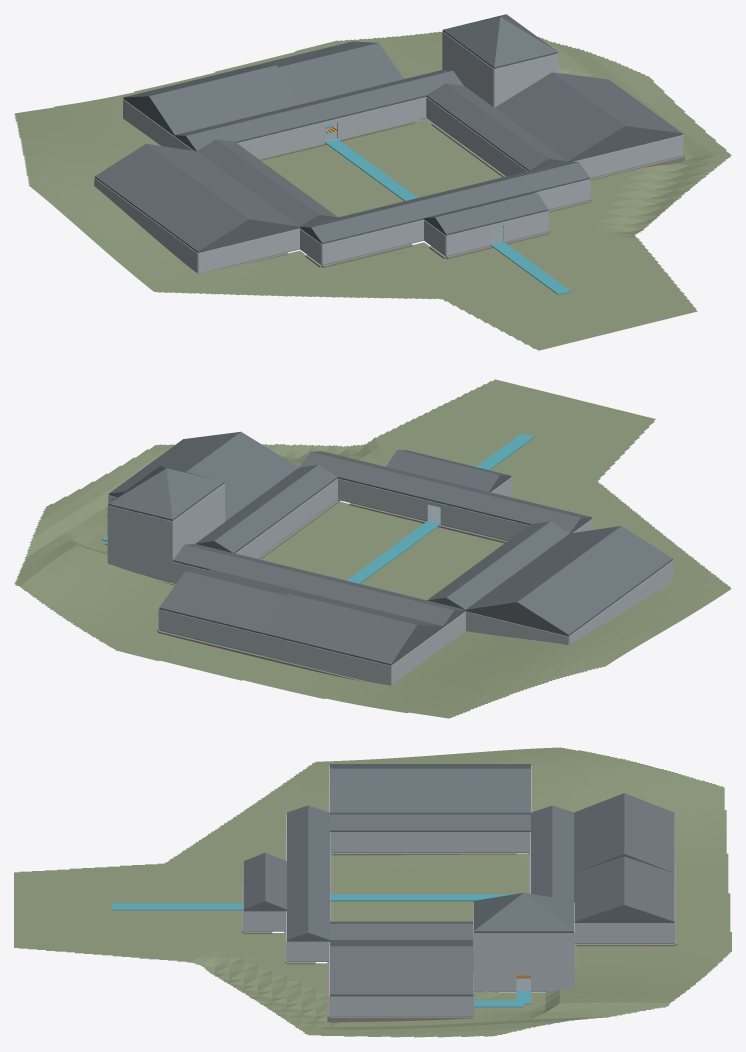
The model's file is enclosed-roofs.glb.
3 renders of one model, top to bottom at view 1: azimuth 30°, elevation 25°; view 2: azimuth 150°, elevation 25°; view 3: azimuth 270°, elevation 25°, orthographic. The views are drawn at different scales.
Visible parts, largest first — view 1: Saved editor circulation terrain WLD-10, dormitory roof west, archive roof south, refectory roof west, south-cloister roof south, north-cloister roof south, vestry roof south, dormitory roof east, east-cloister roof west, west-cloister roof west, refectory roof east, gatehouse roof south (+26 smaller); view 2: Saved editor circulation terrain WLD-10, dormitory roof west, archive roof north, north-cloister roof north, south-cloister roof north, vestry roof north, refectory roof west, dormitory roof east, east-cloister roof west, west-cloister roof west, Wall archive N, Wall tower-base N (+23 smaller); view 3: Saved editor circulation terrain WLD-10, dormitory roof east, refectory roof east, Wall west E, west-cloister roof east, archive roof north, archive roof south, Wall refectory E, south-cloister roof north, south-cloister roof south, vestry roof south, vestry roof north (+20 smaller).
Boxes of the visible parts, box(x1,y1,x2,y2) form: Saved editor circulation terrain WLD-10: box(14, 31, 731, 350); dormitory roof west: box(95, 144, 248, 252); archive roof south: box(149, 65, 301, 136); refectory roof west: box(495, 72, 625, 161); south-cloister roof south: box(311, 162, 589, 244); north-cloister roof south: box(186, 71, 463, 151); vestry roof south: box(278, 43, 403, 103); dormitory roof east: box(146, 143, 299, 227); east-cloister roof west: box(426, 83, 548, 170); west-cloister roof west: box(197, 139, 319, 226); refectory roof east: box(552, 72, 682, 134); gatehouse roof south: box(435, 192, 548, 235); Saved editor circulation terrain WLD-10: box(14, 379, 731, 718); dormitory roof west: box(517, 526, 672, 636); archive roof north: box(262, 593, 417, 665); north-cloister roof north: box(172, 544, 454, 626); south-cloister roof north: box(299, 452, 580, 533); vestry roof north: box(159, 571, 286, 633); refectory roof west: box(186, 432, 298, 520); dormitory roof east: box(466, 526, 620, 610); east-cloister roof west: box(214, 465, 337, 553); west-cloister roof west: box(446, 521, 569, 609); Wall archive N: box(262, 634, 391, 685); Wall tower-base N: box(108, 526, 172, 581); Saved editor circulation terrain WLD-10: box(14, 747, 731, 1037); dormitory roof east: box(330, 768, 530, 812); refectory roof east: box(330, 946, 473, 995); Wall west E: box(330, 832, 530, 851); west-cloister roof east: box(330, 814, 530, 832); archive roof north: box(624, 793, 674, 872); archive roof south: box(574, 793, 624, 872); Wall refectory E: box(330, 996, 473, 1015); south-cloister roof north: box(308, 805, 329, 941); south-cloister roof south: box(287, 805, 308, 941); vestry roof south: box(574, 856, 624, 922); vestry roof north: box(624, 856, 674, 922).
Size of the model in its own units: 92 by 16 by 100.
